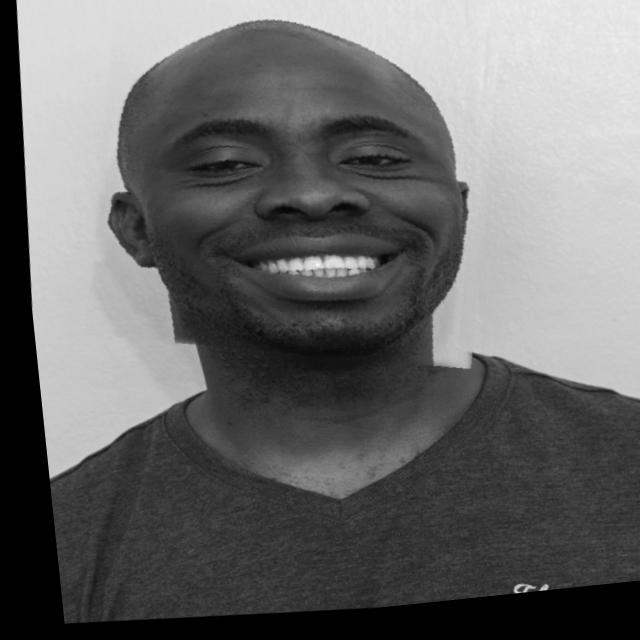happy: (60, 0, 518, 398)
